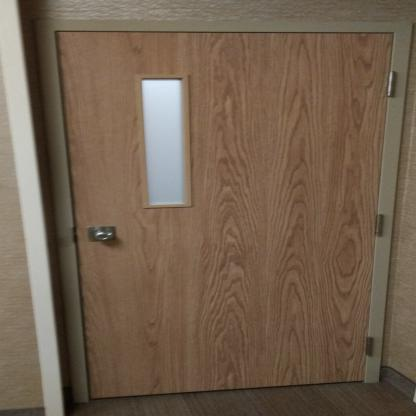door: (79, 28, 382, 380)
hinged: (373, 214, 389, 238), (386, 71, 400, 98), (362, 336, 378, 359)
knob: (92, 229, 114, 243)
